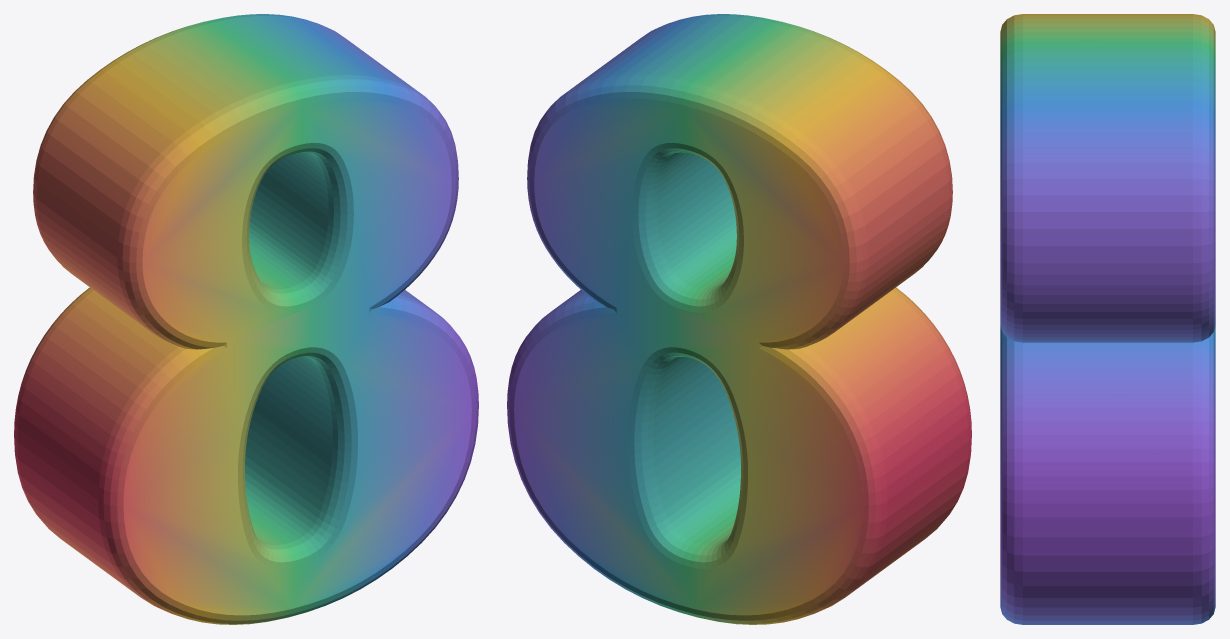
The picture shows the model from 3 angles, left to right: view 1: azimuth 30°, elevation 25°; view 2: azimuth 150°, elevation 25°; view 3: azimuth 270°, elevation 25°; orthographic projection. The views are drawn at different scales.
Bounding box in the file's own units: 0.9151 × 1.23 × 0.43.
